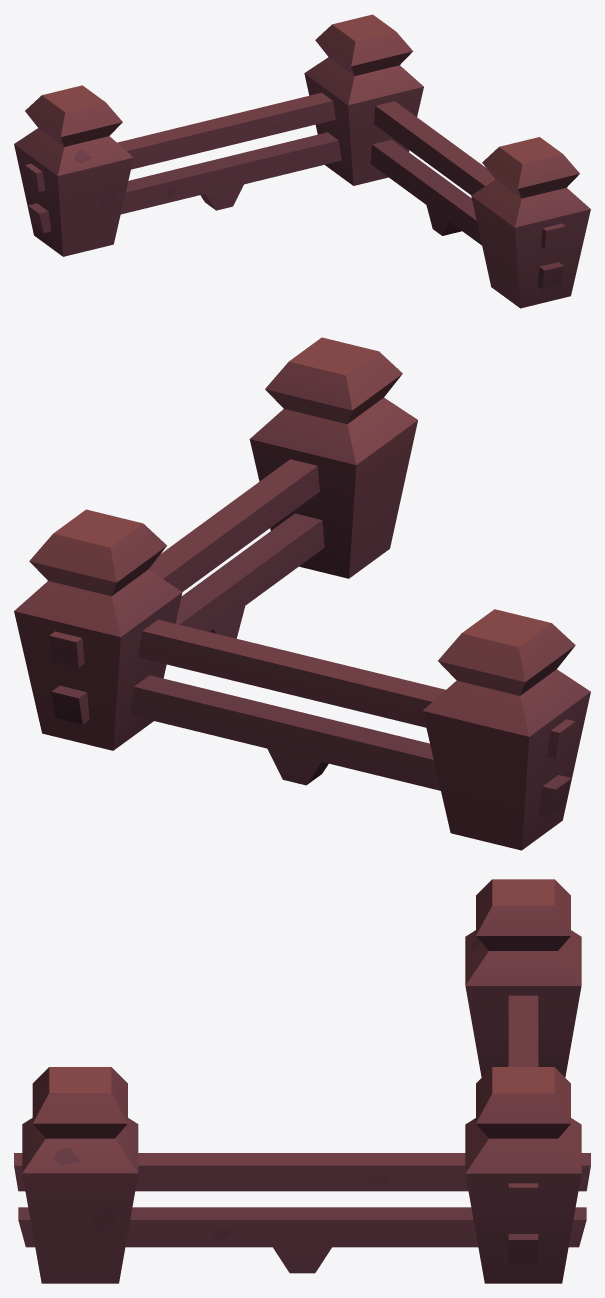
The model's file is fence_1.glb.
3 views of the same model, one above another, from view 1: azimuth 30°, elevation 25°; view 2: azimuth 150°, elevation 25°; view 3: azimuth 270°, elevation 25° (orthographic). The views are drawn at different scales.
Visible parts, largest first — view 1: fence_1; view 2: fence_1; view 3: fence_1.
Part boxes in pixels (box(x1,y1,x2,y2)): fence_1: box(14, 14, 590, 308); fence_1: box(14, 337, 590, 850); fence_1: box(14, 879, 590, 1283).
Size of the model in its own units: 2.46 by 0.8794 by 2.46.
Materials: 1 (1 with a texture image).
